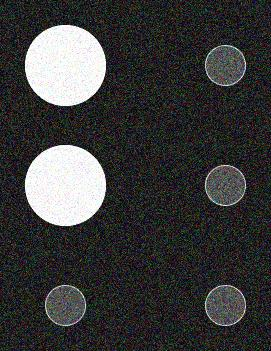B: (18, 19, 257, 335)
